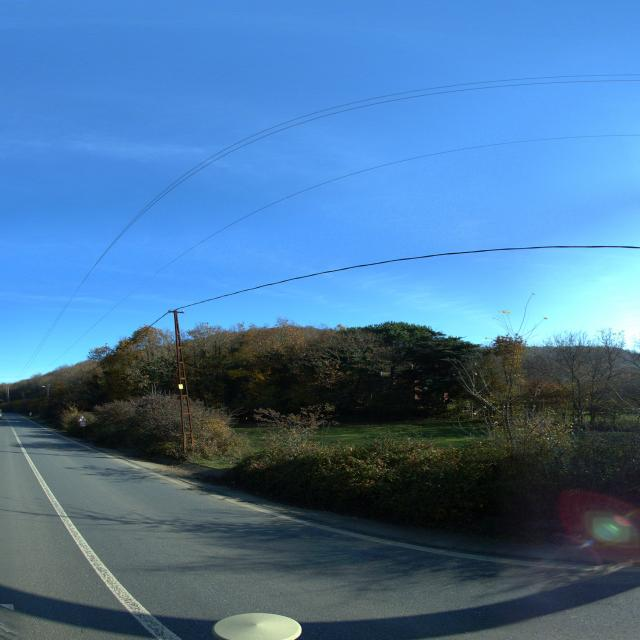Utility Pole Information Plate: (178, 384, 184, 389)
